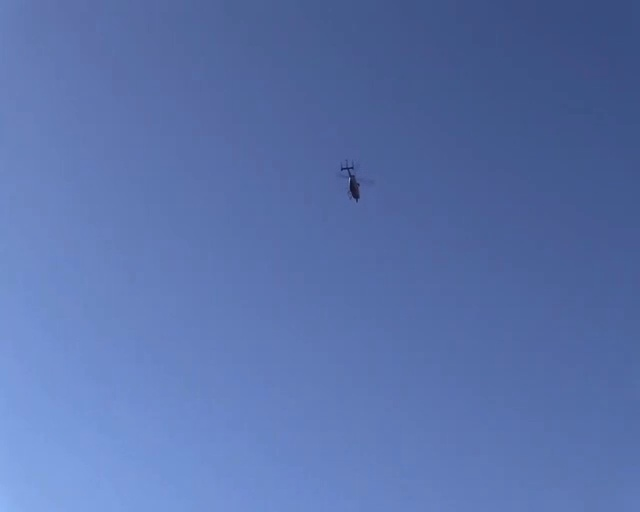HELICOPTER: (337, 158, 376, 202)
